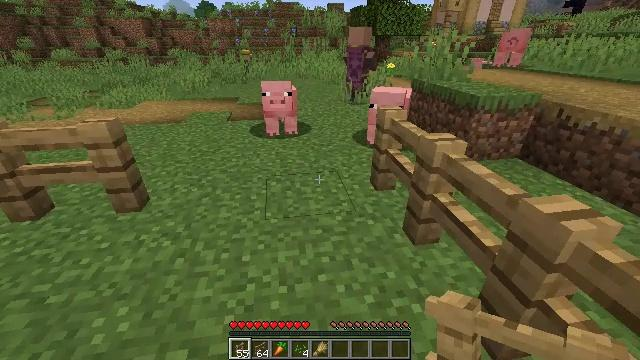pig: (369, 86, 410, 149), (261, 80, 297, 134), (491, 30, 529, 68)
